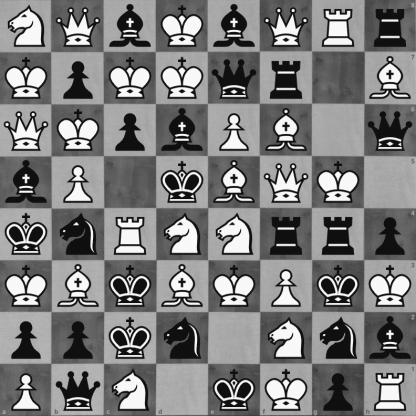B: (364, 52, 416, 104), (53, 261, 104, 312), (157, 261, 208, 312), (209, 157, 260, 208), (261, 105, 312, 156)
K: (260, 364, 312, 416), (364, 260, 416, 312), (1, 53, 52, 104), (1, 261, 52, 312), (53, 105, 104, 156), (105, 53, 156, 104), (157, 1, 208, 52), (157, 53, 208, 104), (209, 261, 260, 312), (313, 157, 364, 208)
N: (104, 364, 156, 416), (1, 1, 52, 52), (157, 209, 208, 260), (209, 209, 260, 260), (261, 313, 312, 364)
P: (0, 364, 52, 416), (53, 157, 104, 208), (209, 105, 260, 156), (261, 261, 312, 312)
Q: (1, 105, 52, 156), (53, 1, 104, 52), (261, 1, 312, 52), (261, 157, 312, 208)
R: (364, 364, 416, 416), (105, 209, 156, 260), (313, 1, 364, 52)
b: (364, 312, 416, 364), (1, 157, 52, 208), (105, 1, 156, 52), (157, 105, 208, 156), (209, 1, 260, 52)
board: (0, 0, 415, 415)
k: (209, 364, 260, 416), (1, 209, 52, 260), (105, 261, 156, 312), (105, 313, 156, 364), (157, 157, 208, 208), (313, 261, 364, 312)
n: (53, 209, 104, 260), (157, 313, 208, 364), (313, 313, 364, 364)
p: (312, 364, 364, 416), (364, 209, 416, 260), (1, 313, 52, 364), (53, 53, 104, 104), (53, 313, 104, 364), (105, 105, 156, 156)
q: (52, 364, 104, 416), (364, 104, 416, 156), (209, 53, 260, 104)
r: (364, 0, 416, 52), (261, 53, 312, 104), (261, 209, 312, 260), (313, 209, 364, 260)
